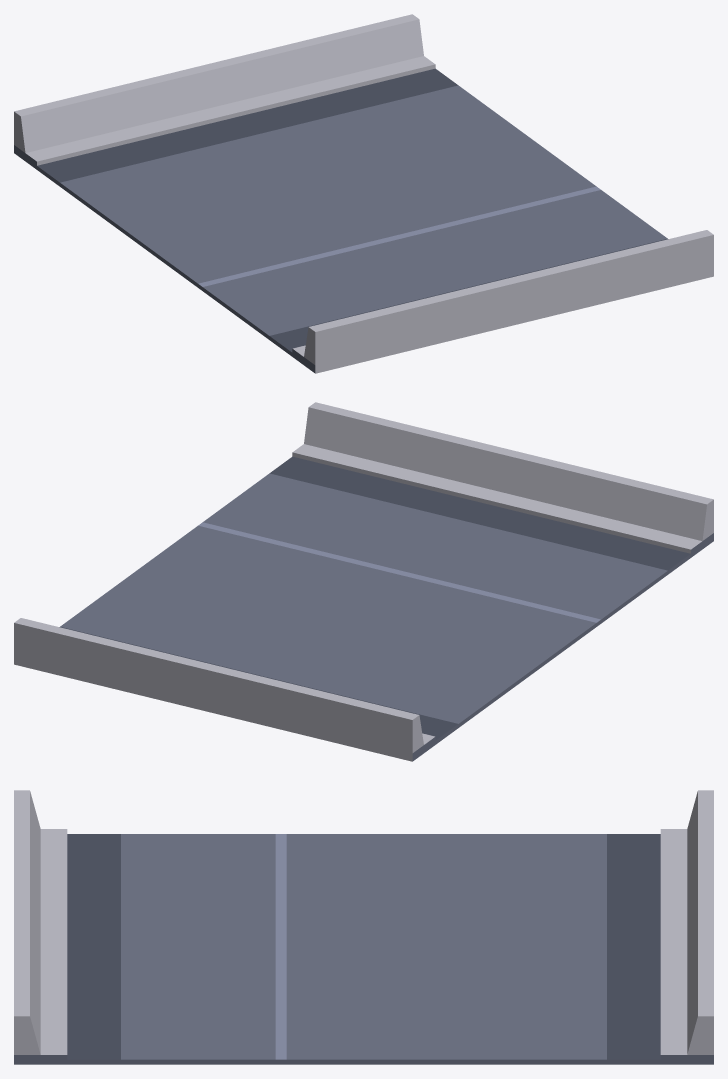
The model's file is road_side.glb.
3 renders of one model, top to bottom at view 1: azimuth 30°, elevation 25°; view 2: azimuth 150°, elevation 25°; view 3: azimuth 270°, elevation 25°, orthographic. The views are drawn at different scales.
Parts seen in each view (by area): view 1: road_side_bea657, road_side_250cb7, road_side_de6692, road_side_9fe7a2, road_side_b323bc; view 2: road_side_bea657, road_side_250cb7, road_side_de6692, road_side_9fe7a2, road_side_b323bc; view 3: road_side_bea657, road_side_de6692, road_side_250cb7, road_side_9fe7a2, road_side_b323bc.
Boxes of the visible parts, x1,y1,x2,y2 form: road_side_bea657: (14, 85, 667, 373); road_side_250cb7: (14, 14, 713, 365); road_side_de6692: (37, 68, 668, 352); road_side_9fe7a2: (26, 56, 713, 373); road_side_b323bc: (198, 186, 600, 286); road_side_bea657: (60, 473, 713, 761); road_side_250cb7: (14, 402, 713, 753); road_side_de6692: (59, 456, 690, 740); road_side_9fe7a2: (14, 444, 701, 761); road_side_b323bc: (198, 522, 600, 622); road_side_bea657: (14, 834, 713, 1064); road_side_de6692: (67, 834, 660, 1059); road_side_250cb7: (14, 790, 713, 1054); road_side_9fe7a2: (40, 829, 687, 1054); road_side_b323bc: (275, 834, 286, 1059).
Size of the model in its own units: 1 by 0.1 by 1.31.
